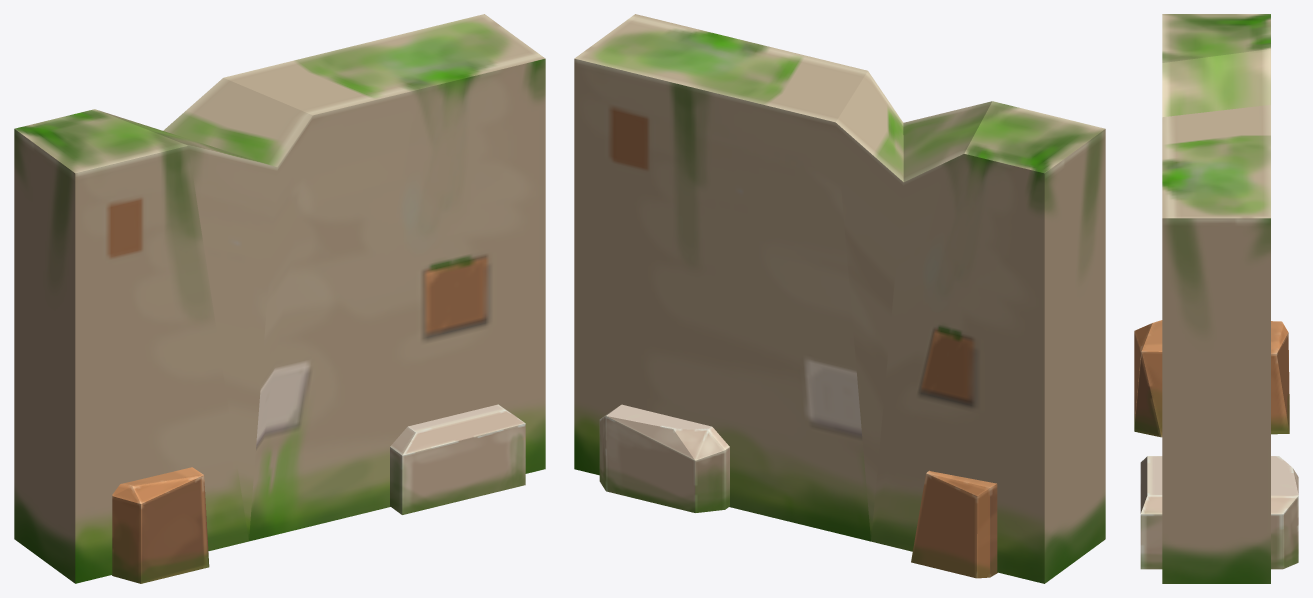
The model's file is LeirianRuins_Wall_Var01.fbx.
3 renders of one model, left to right at view 1: azimuth 30°, elevation 25°; view 2: azimuth 150°, elevation 25°; view 3: azimuth 270°, elevation 25°, orthographic. The views are drawn at different scales.
Parts seen in each view (by area): view 1: LeirianRuins_Wall_Var01; view 2: LeirianRuins_Wall_Var01; view 3: LeirianRuins_Wall_Var01.
Boxes of the visible parts, box(x1,y1,x2,y2) form: LeirianRuins_Wall_Var01: box(14, 14, 545, 583); LeirianRuins_Wall_Var01: box(574, 14, 1105, 583); LeirianRuins_Wall_Var01: box(1134, 14, 1298, 583).
Bounding box in the file's own units: 404 × 337 × 137.
1 material, 1 textured.
